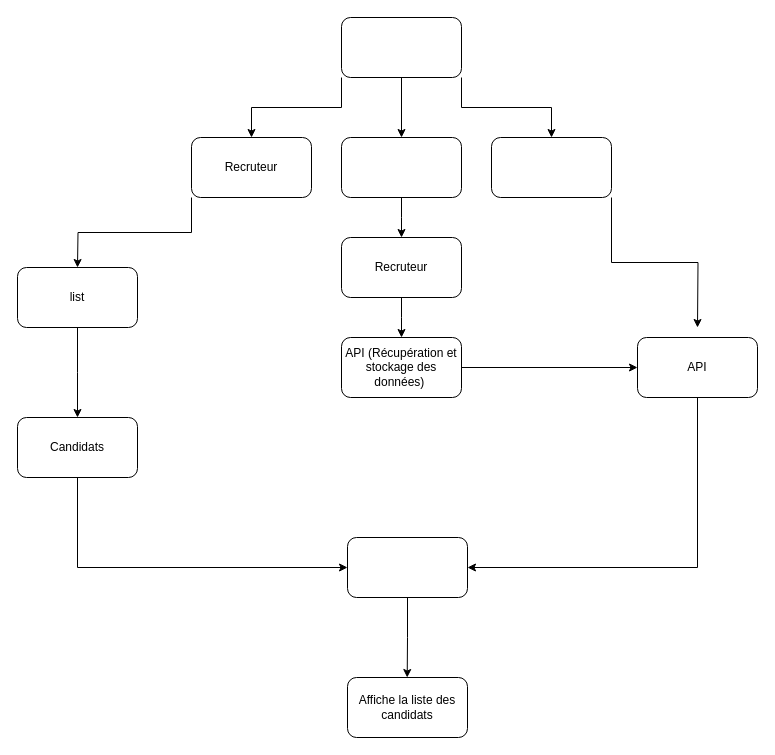
This 775x755 diagram has some shape labels left out. Here are the shapes that lost their labels. From the top down, the centre of each, then its label:
At [401,47]: "Exercice_APP".
At [401,167]: "Forms".
At [551,167]: "Display".
At [407,567]: "Afficher les données".
